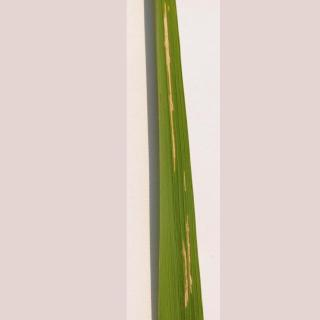Hawar-Daun: (150, 0, 194, 199), (168, 222, 212, 314)
